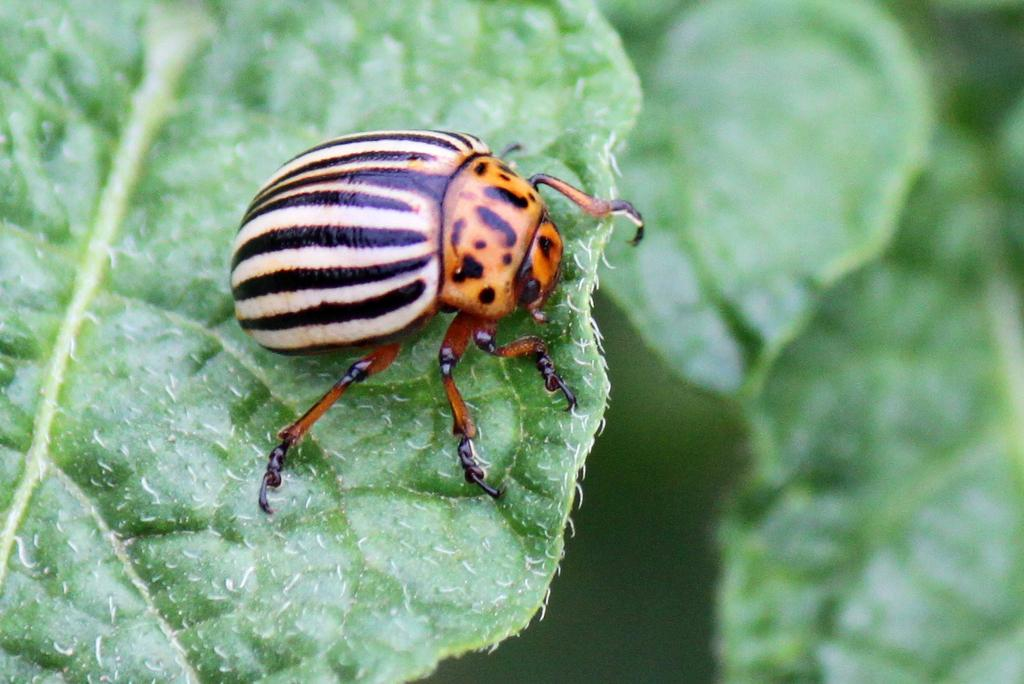potato_beetle: (134, 67, 672, 541)
